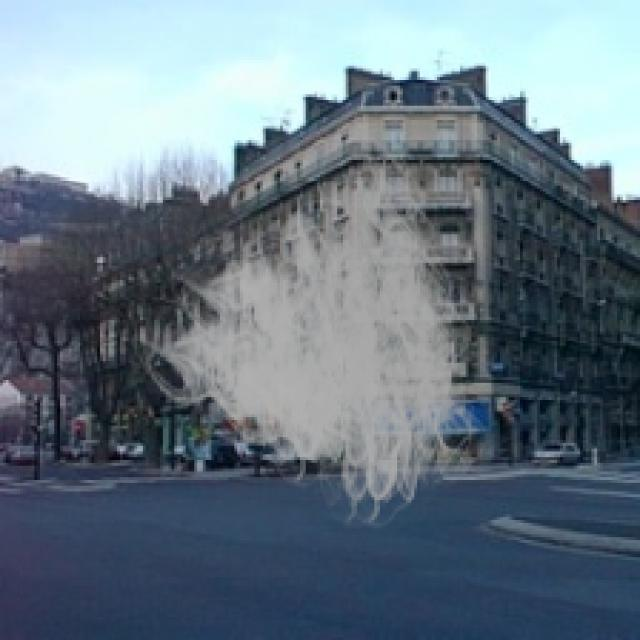Smoke: (134, 120, 497, 540)
